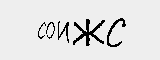Ж: (70, 18, 105, 46)
И: (55, 20, 73, 44)
О: (43, 21, 57, 39)
С: (105, 18, 127, 49), (37, 20, 45, 39)
